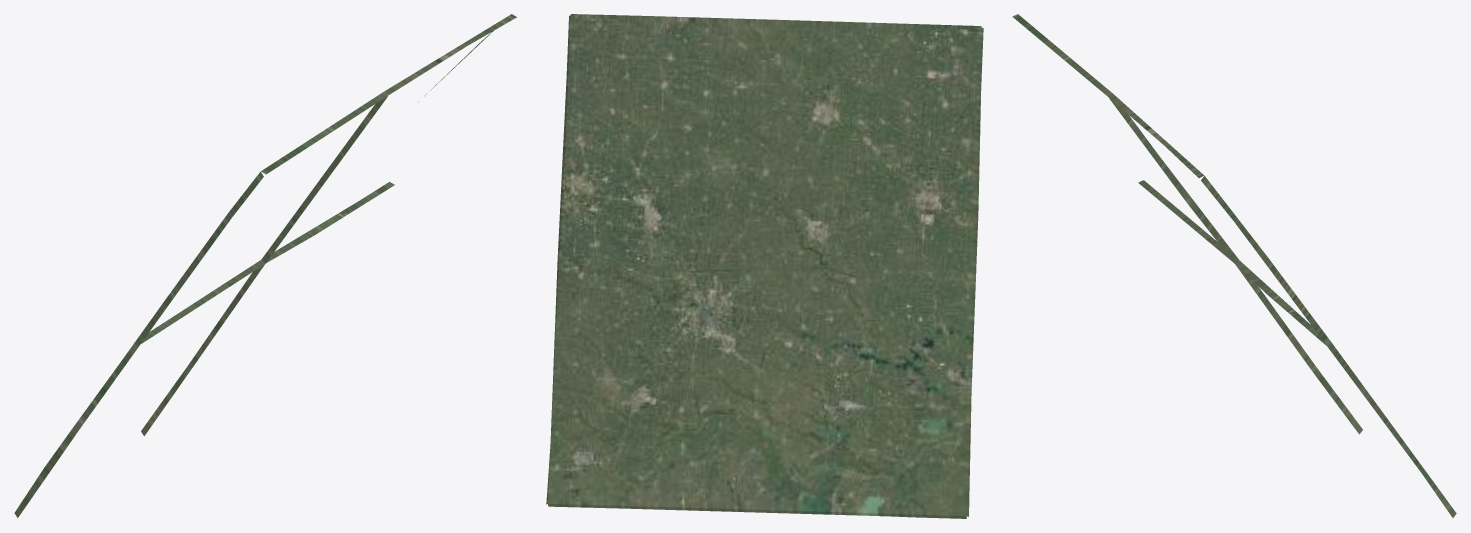
3 renders of one model, left to right at view 1: azimuth 30°, elevation 25°; view 2: azimuth 150°, elevation 25°; view 3: azimuth 270°, elevation 25°, orthographic. The views are drawn at different scales.
Bounding box in the file's own units: 157300 × 133323 × 136421.
1 material, 1 textured.
